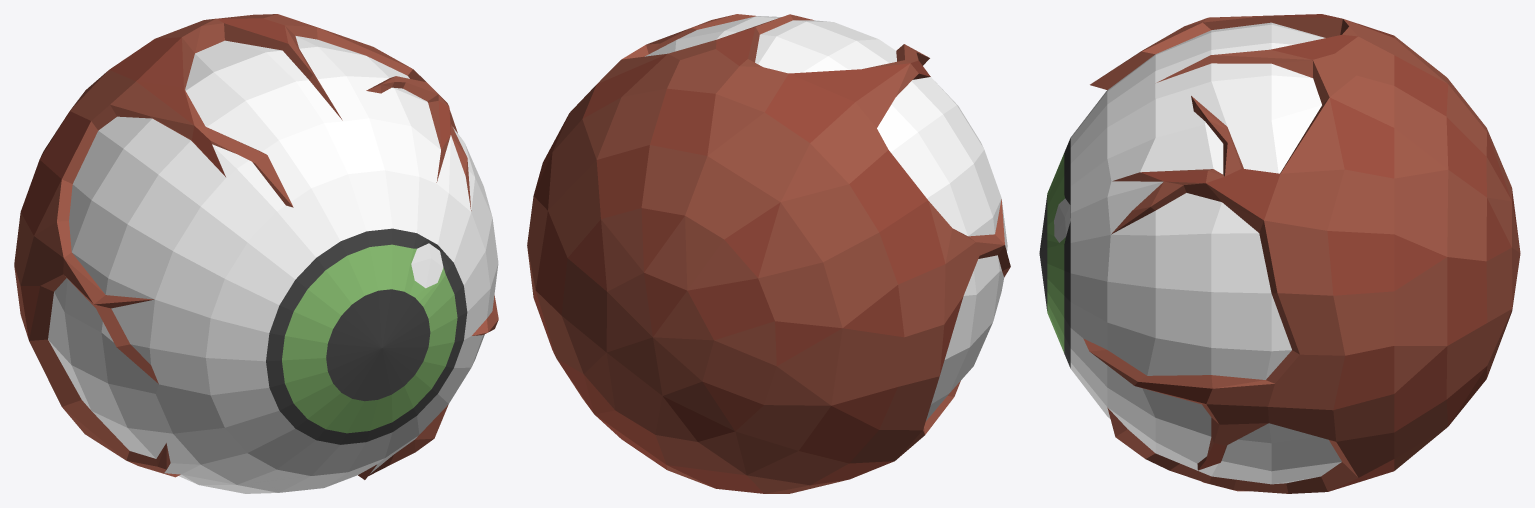
File: WF_LP_HT_Props_Eyeball.fbx
3 views of the same model, side by side, from view 1: azimuth 30°, elevation 25°; view 2: azimuth 150°, elevation 25°; view 3: azimuth 270°, elevation 25° (orthographic).
Parts seen in each view (by area): view 1: WF_LP_HT_Props_Eyeball; view 2: WF_LP_HT_Props_Eyeball; view 3: WF_LP_HT_Props_Eyeball.
Boxes of the visible parts, left/top/right/bottom form: WF_LP_HT_Props_Eyeball: left=14, top=14, right=498, bottom=493; WF_LP_HT_Props_Eyeball: left=527, top=14, right=1010, bottom=493; WF_LP_HT_Props_Eyeball: left=1039, top=14, right=1520, bottom=493.
Bounding box in the file's own units: 0.1205 × 0.1188 × 0.1207.
